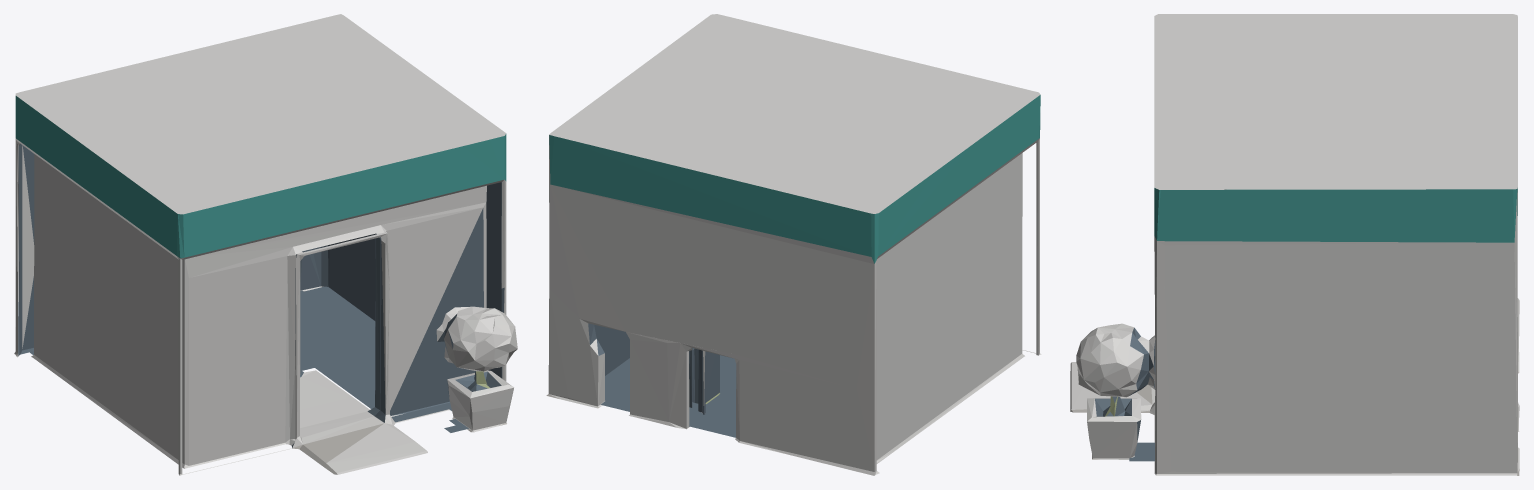
Rendered from etape-1.glb.
3 renders of one model, left to right at view 1: azimuth 30°, elevation 25°; view 2: azimuth 150°, elevation 25°; view 3: azimuth 270°, elevation 25°, orthographic. The views are drawn at different scales.
Parts seen in each view (by area): view 1: geometry_0; view 2: geometry_0; view 3: geometry_0.
Boxes of the visible parts, box(x1,y1,x2,y2) form: geometry_0: box(14, 14, 517, 475); geometry_0: box(546, 14, 1041, 475); geometry_0: box(1070, 14, 1519, 475).
Size of the model in its own units: 0.7756 by 0.5863 by 0.8359.
